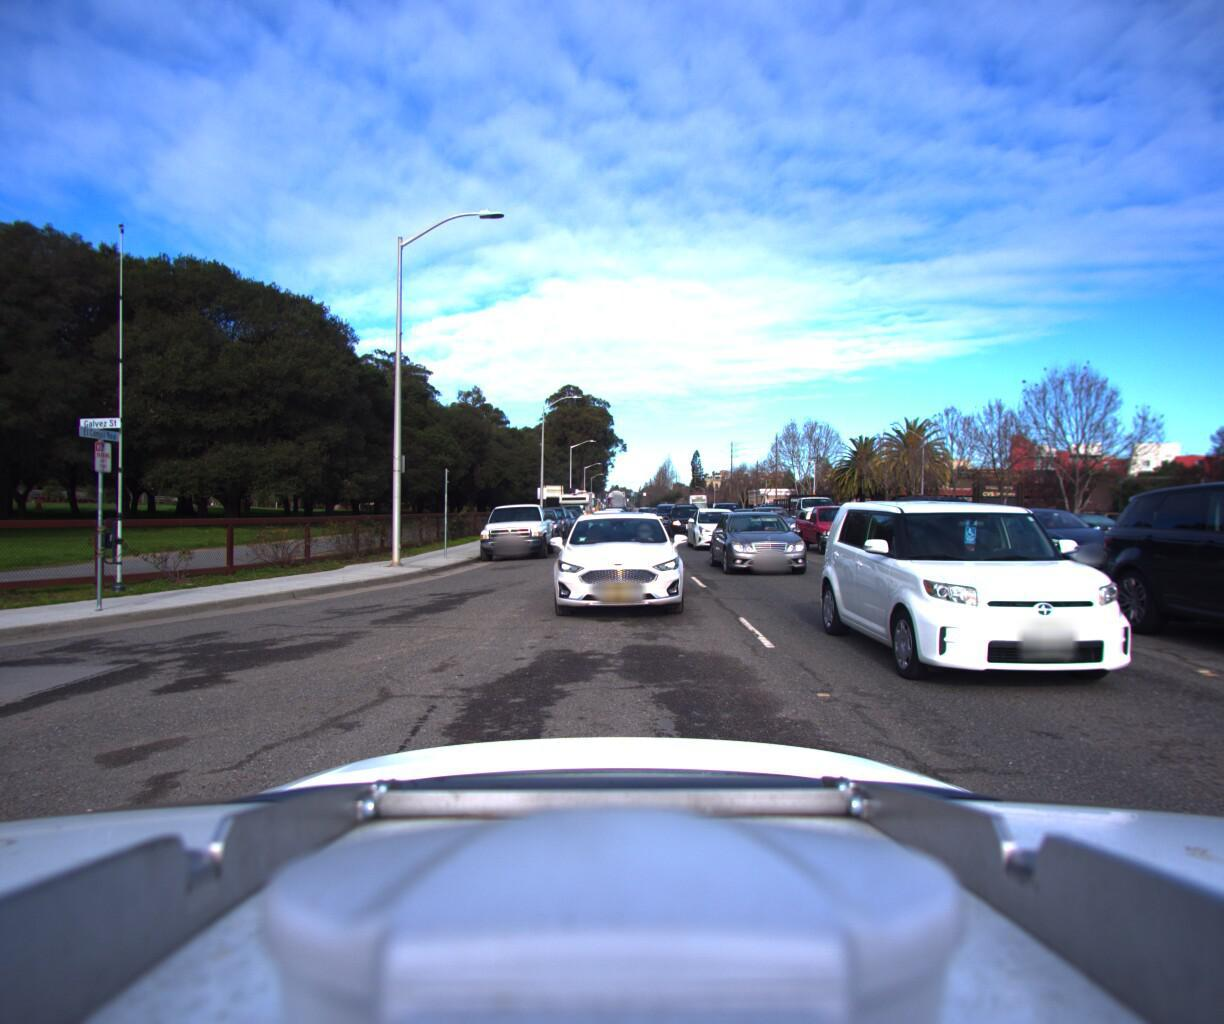car: (828, 475, 1224, 720), (1120, 446, 1224, 738), (545, 501, 694, 623), (961, 502, 1137, 570), (1164, 474, 1224, 629), (709, 503, 820, 573), (882, 488, 993, 543), (470, 498, 557, 556), (796, 497, 883, 555), (682, 503, 746, 549), (742, 503, 802, 540), (580, 504, 627, 542), (518, 504, 561, 540), (661, 502, 702, 535), (531, 503, 569, 535), (648, 505, 685, 531)
other_vehicle: (553, 490, 592, 526)
truck: (764, 485, 850, 541)
